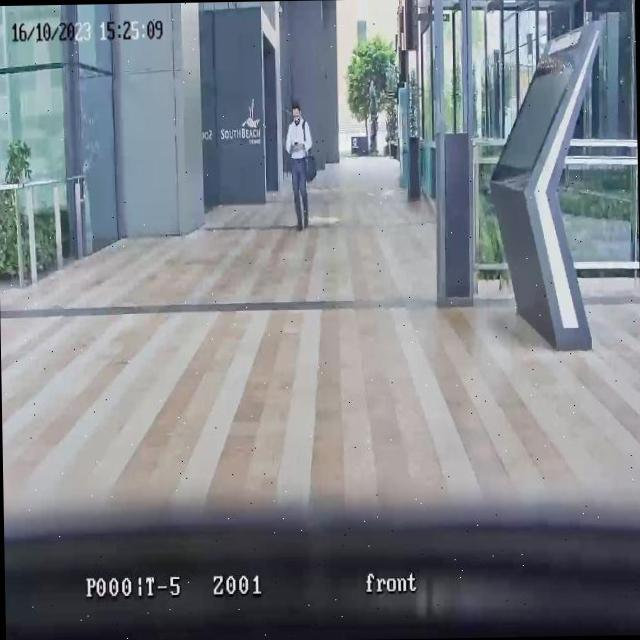person: (284, 97, 314, 232)
